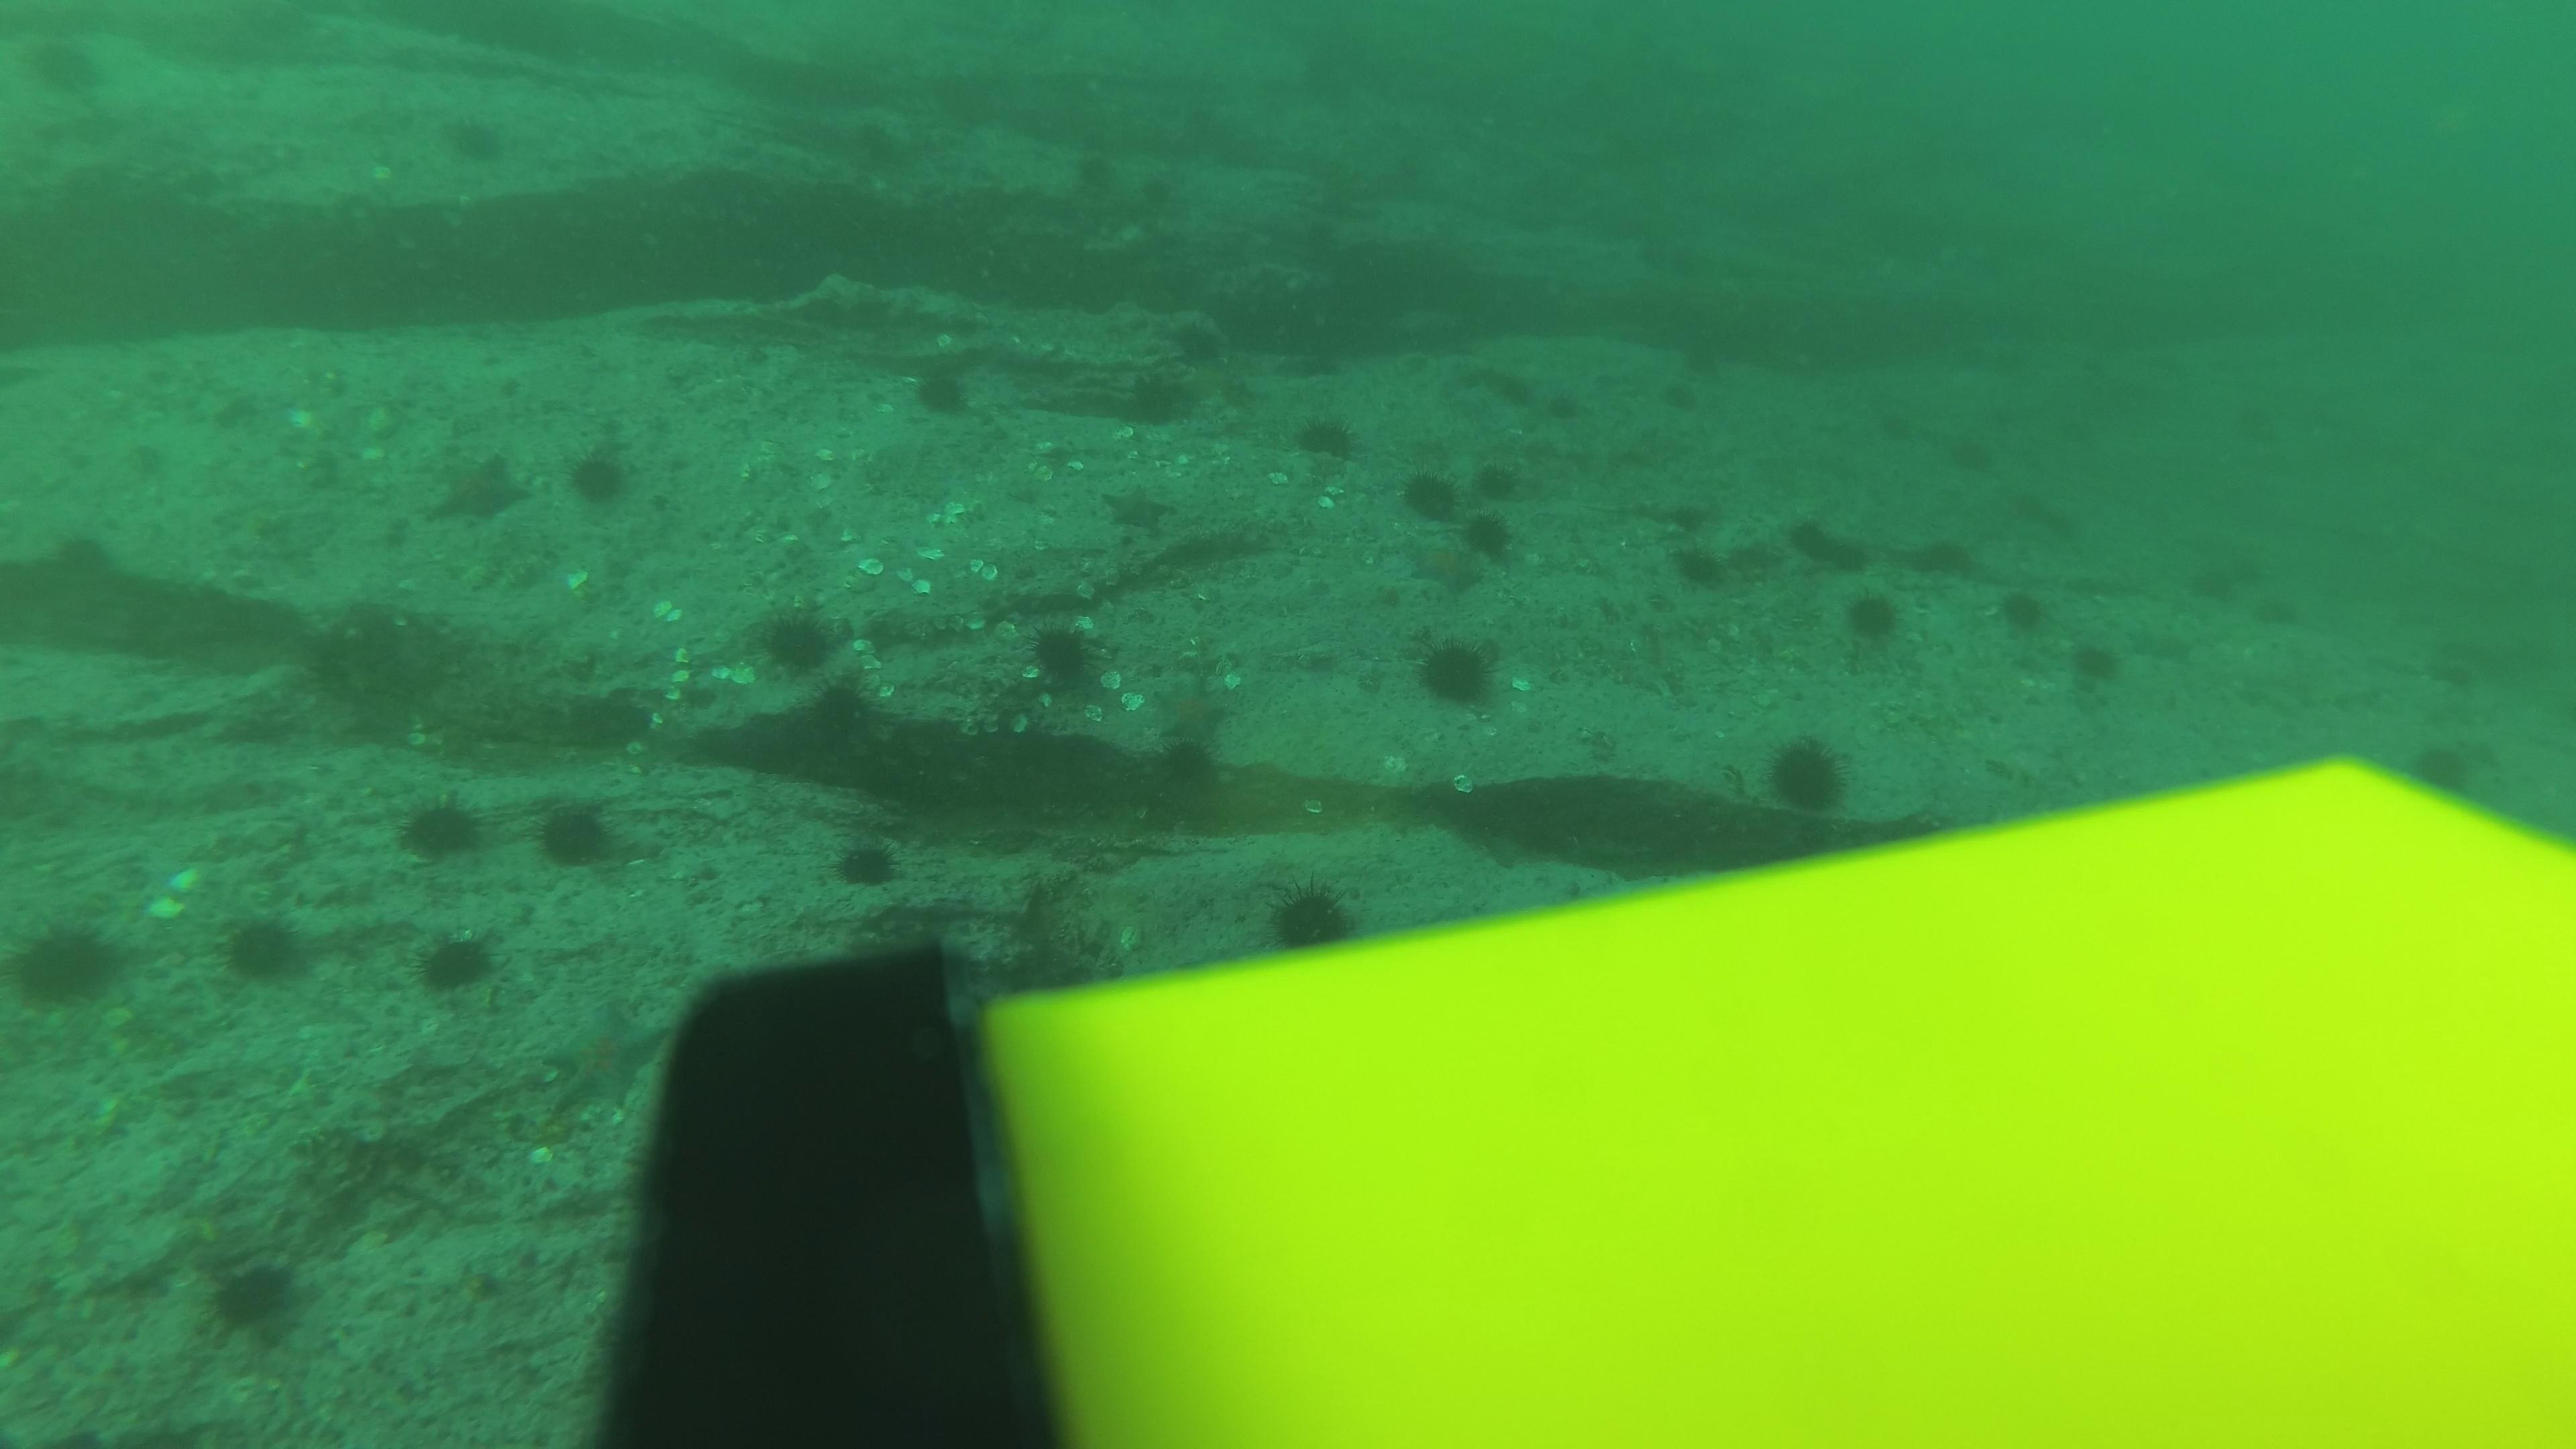echinus: (5, 913, 127, 1014), (195, 1249, 313, 1346), (741, 596, 855, 686), (1014, 612, 1120, 708), (775, 663, 888, 752), (1256, 872, 1369, 959), (209, 904, 317, 991), (1755, 731, 1856, 821), (527, 793, 633, 878), (1407, 630, 1507, 717), (1143, 731, 1233, 819), (391, 789, 490, 867), (409, 924, 504, 1001), (1398, 462, 1486, 536), (899, 352, 985, 425), (1115, 361, 1201, 433), (824, 824, 909, 895), (563, 439, 640, 511), (1835, 582, 1911, 653), (437, 106, 515, 172), (1663, 531, 1737, 594), (1157, 313, 1233, 375), (1288, 405, 1362, 467), (2061, 635, 2125, 699), (2411, 738, 2475, 801), (2250, 589, 2314, 653), (2042, 494, 2105, 557), (1989, 580, 2054, 640), (1467, 506, 1522, 564), (1468, 448, 1523, 506), (1665, 345, 1721, 395), (1824, 533, 1879, 582), (1923, 536, 1978, 586), (1997, 481, 2052, 529), (1787, 515, 1842, 563), (1951, 428, 2006, 476), (1877, 395, 1932, 442), (1649, 492, 1704, 540), (1658, 373, 1713, 421), (1283, 334, 1338, 382), (1290, 219, 1345, 267), (1122, 168, 1177, 216), (1070, 156, 1125, 203), (839, 108, 893, 156), (2189, 570, 2243, 612)
starfish: (538, 994, 660, 1113), (421, 446, 533, 527), (1146, 671, 1237, 748), (1391, 527, 1483, 591), (1097, 479, 1177, 536), (1403, 540, 1483, 596)
